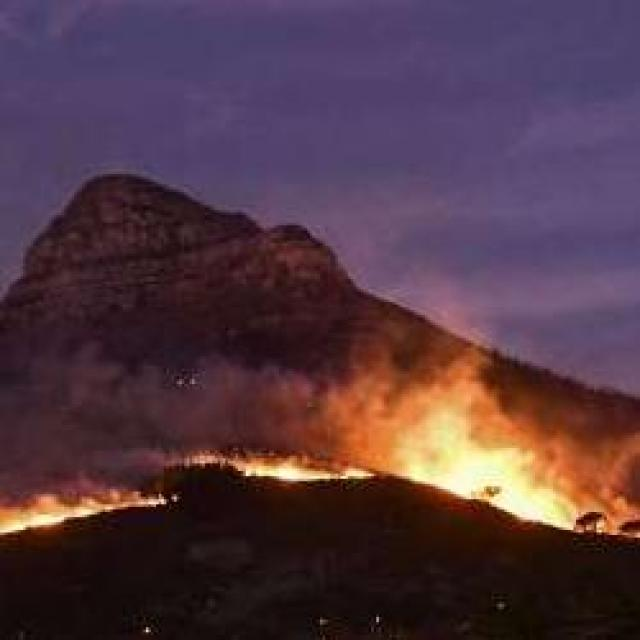fire: (289, 367, 640, 539), (0, 456, 200, 560)
